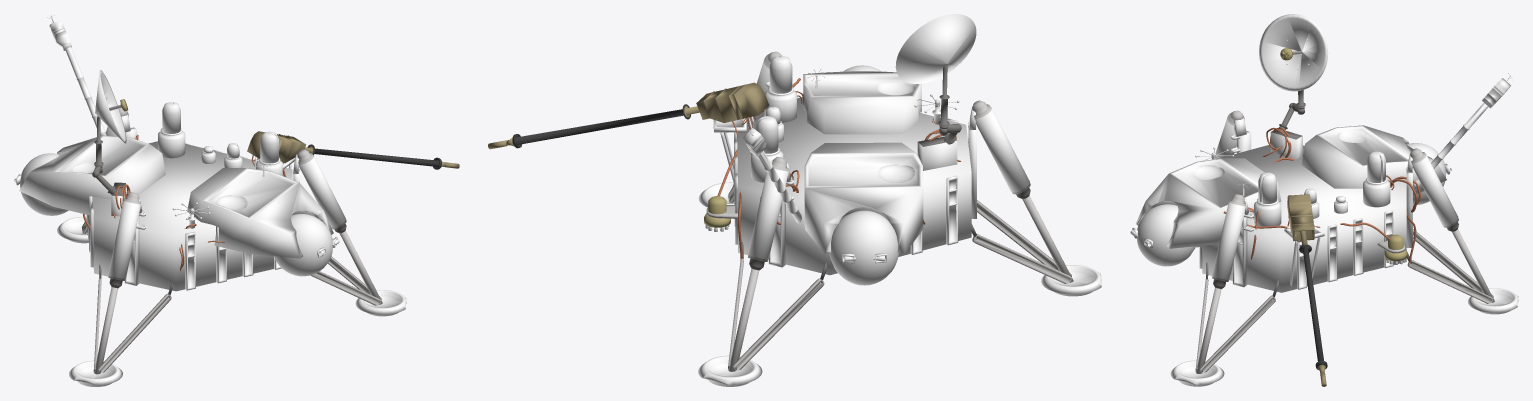
Rendered from viking-lce4bRC5.glb.
The picture shows the model from 3 angles, left to right: view 1: azimuth 30°, elevation 25°; view 2: azimuth 150°, elevation 25°; view 3: azimuth 270°, elevation 25°; orthographic projection. The views are drawn at different scales.
Parts seen in each view (by area): view 1: polySurfa1; view 2: polySurfa1; view 3: polySurfa1.
Boxes of the visible parts, x1,y1,x2,y2 form: polySurfa1: (14,15,459,386); polySurfa1: (488,14,1101,386); polySurfa1: (1130,14,1518,386).
Size of the model in its own units: 16.74 by 8.97 by 12.55.
4 materials, 4 textured.
